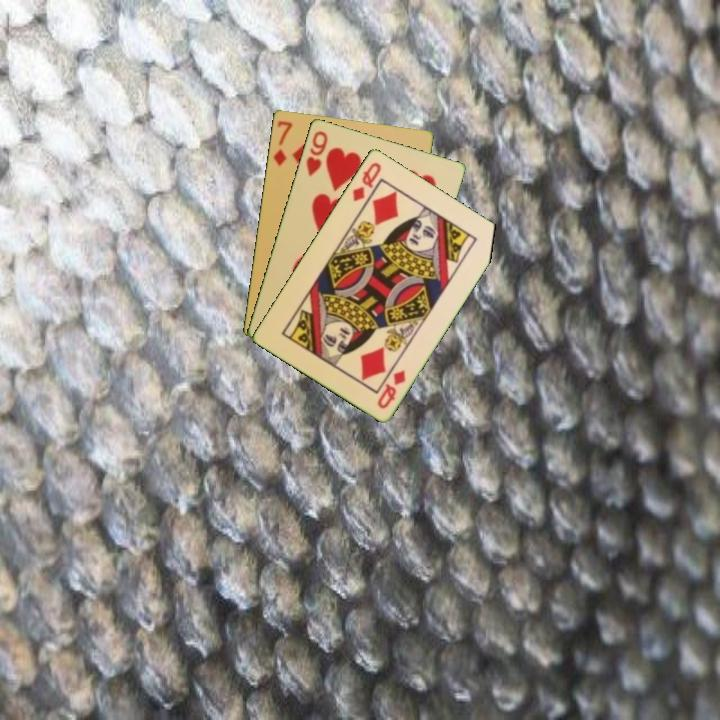7d: (270, 117, 295, 168)
9h: (302, 127, 330, 179)
Qd: (349, 158, 384, 204), (374, 366, 409, 411)
